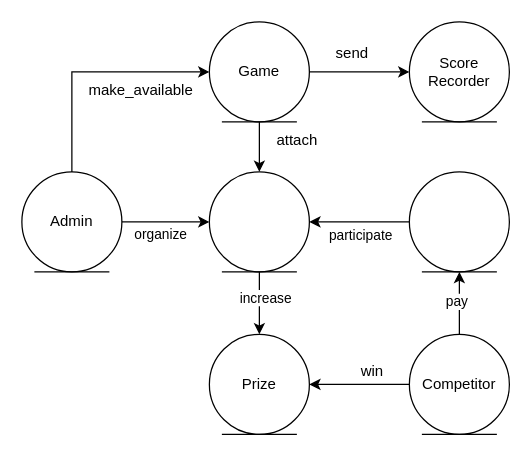
Some shapes in this 531 by 456 pixel diagram are drawn without their labels. Each missing label, with the centre of its shape:
"Competition" belongs at (x=258, y=221).
"Participation" belongs at (x=458, y=221).
